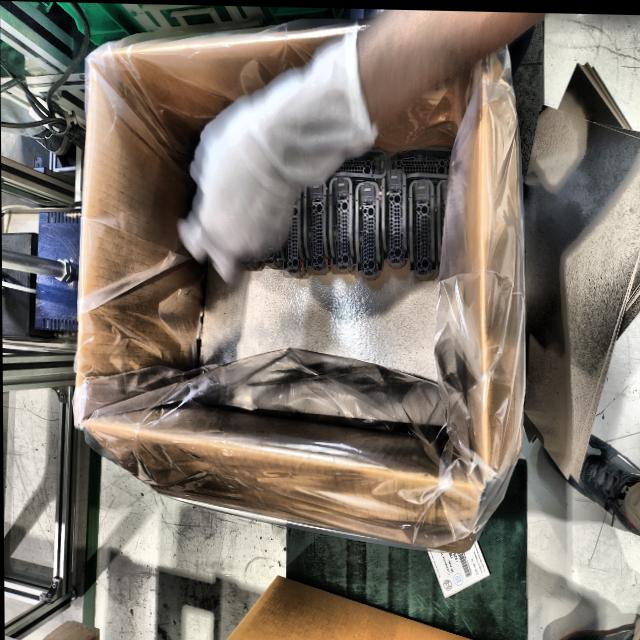P38: (277, 181, 307, 277), (303, 177, 332, 274), (409, 176, 436, 279), (355, 179, 383, 278), (381, 166, 408, 267), (329, 174, 356, 272), (389, 142, 453, 176), (331, 143, 388, 176), (435, 176, 450, 269), (257, 217, 282, 268), (235, 240, 262, 269)
